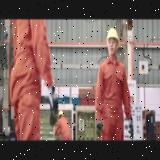Helmet: (106, 28, 121, 46), (59, 110, 64, 117)
